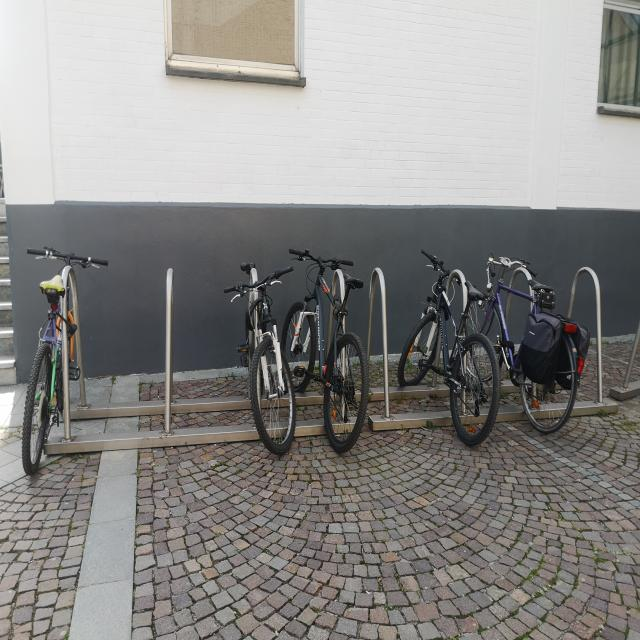Bicycle: (0, 238, 120, 480), (479, 227, 593, 462), (412, 225, 498, 484), (291, 228, 374, 463), (219, 251, 298, 463)
